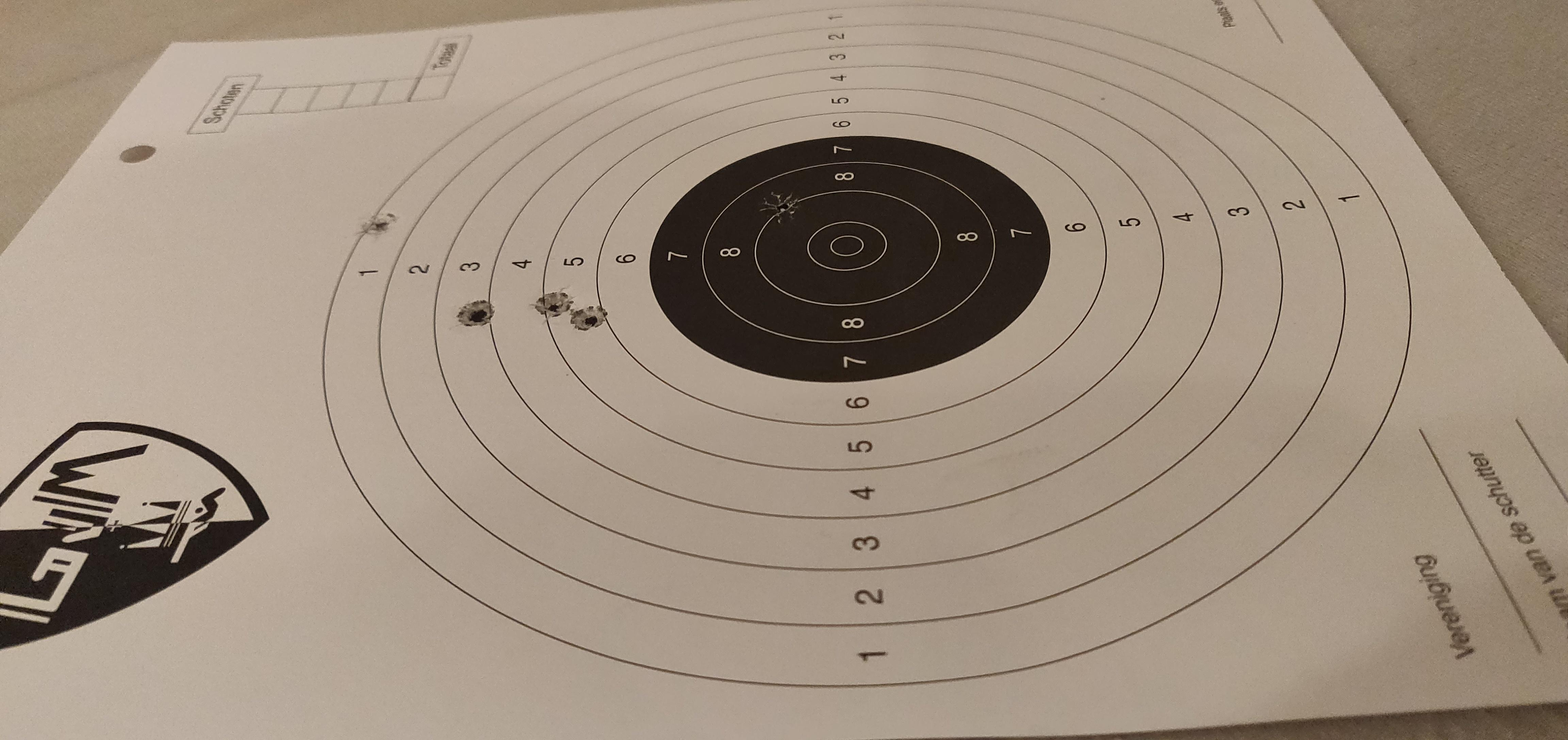hole: (453, 298, 500, 329), (571, 301, 610, 333), (536, 287, 572, 321), (761, 192, 799, 222), (362, 211, 403, 238)
